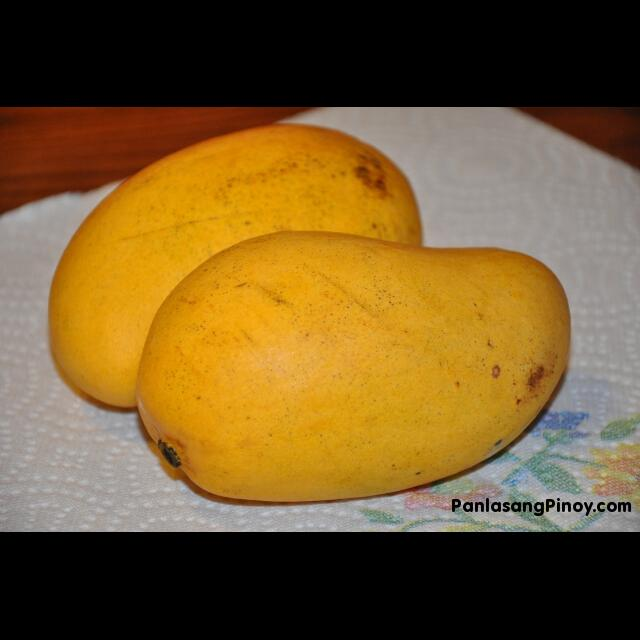mango: (126, 229, 576, 501), (47, 124, 422, 410)
